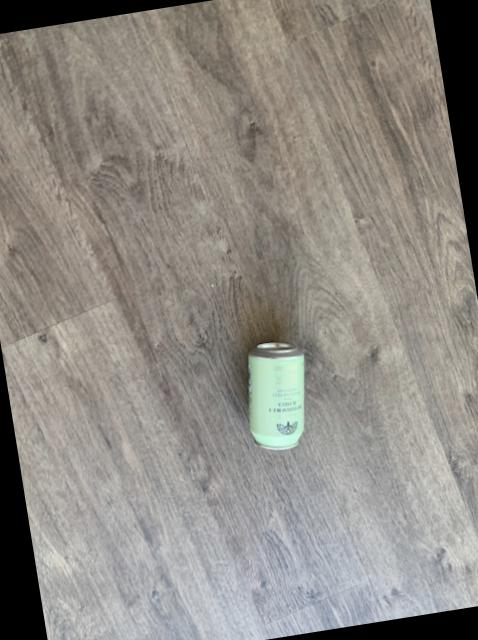metal: (248, 344, 304, 451)
